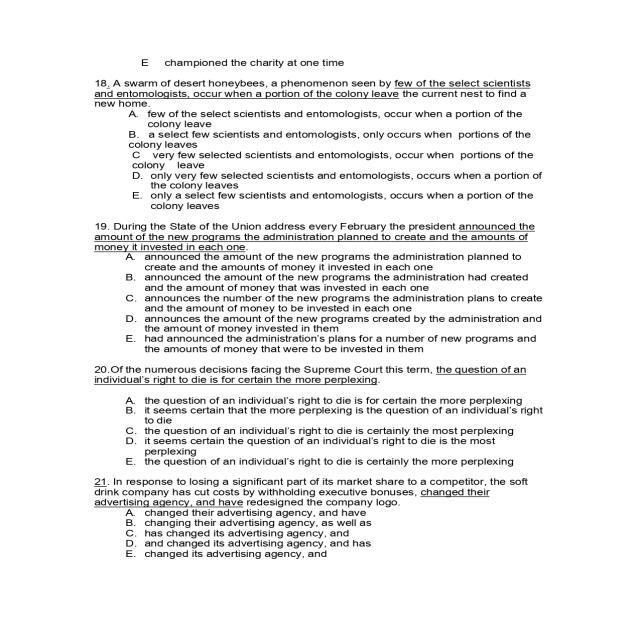Answer_Block: (66, 250, 566, 360), (66, 109, 566, 218), (66, 394, 566, 469), (66, 508, 566, 571), (66, 48, 566, 70)
Question_Answer_Block: (66, 74, 566, 218), (66, 222, 566, 360), (66, 362, 566, 469), (66, 472, 566, 572), (66, 48, 566, 70)
Question_Block: (66, 74, 566, 110), (66, 472, 566, 508), (66, 222, 566, 252), (66, 362, 566, 392)
Question_Paper_Area: (66, 48, 566, 576)
